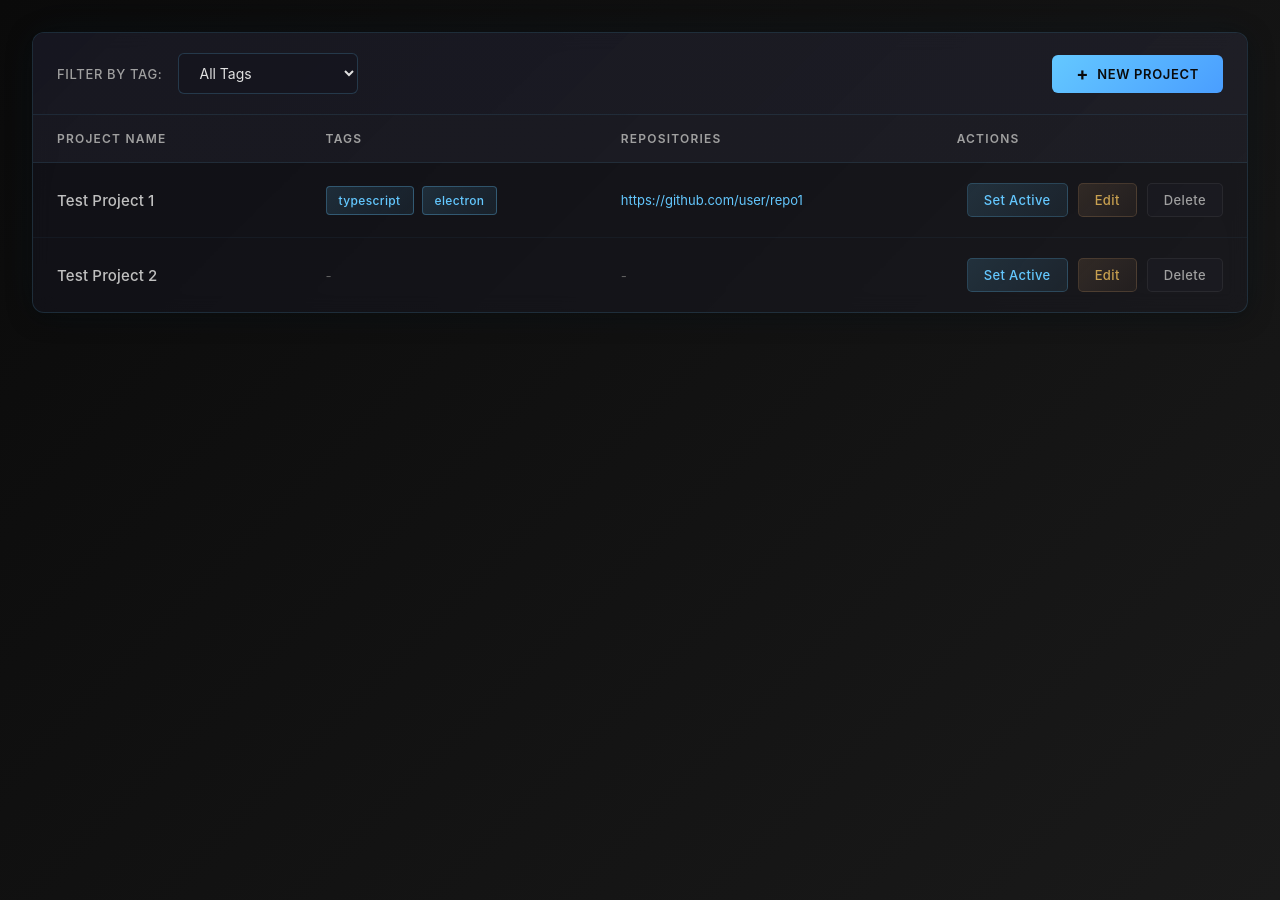
Test: ProjectsPage Component › New Project Modal › should open modal when New Project button is clicked
Expected: the text "Test Project 1" is shown, [33,162,302,238]
Click the button "+ New Project" at (1138, 74), box [1052,54,1223,92]
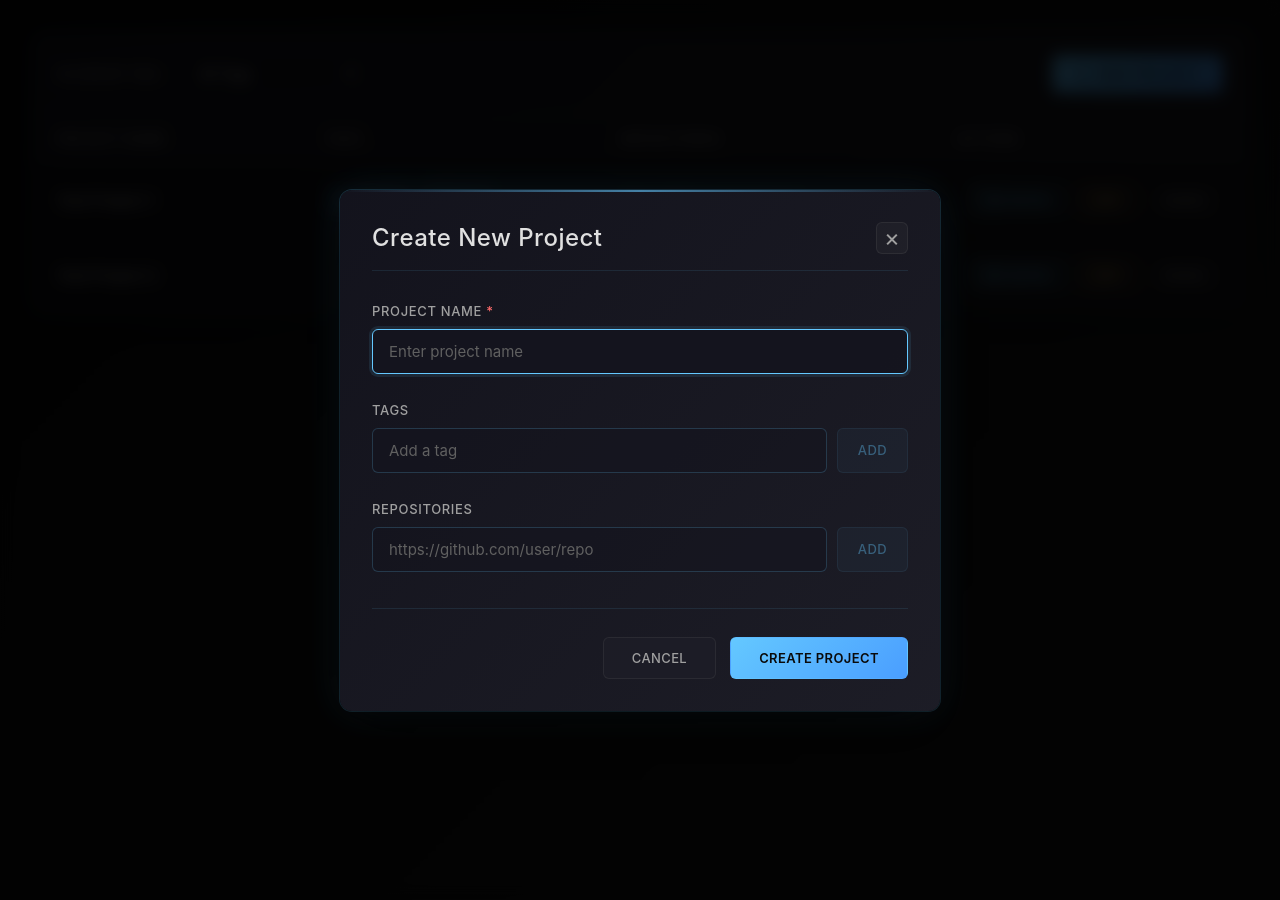
Expected: the heading "Create New Project" is shown, [372,223,602,252]
